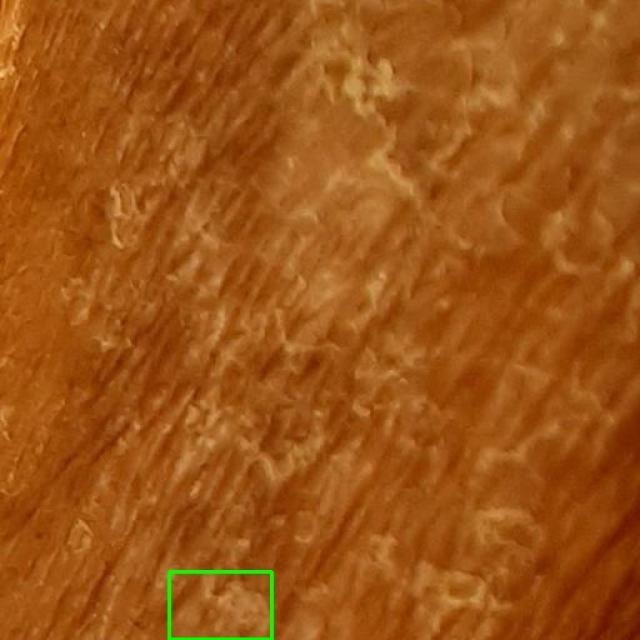Tinea Corporis: (169, 571, 271, 639)
